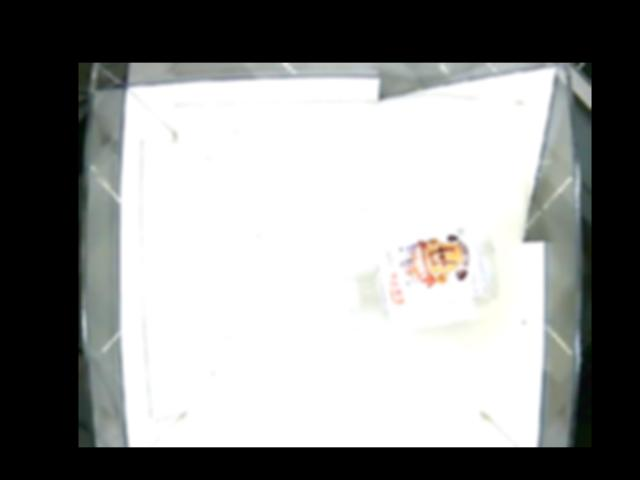Bottle: (316, 218, 501, 335)
